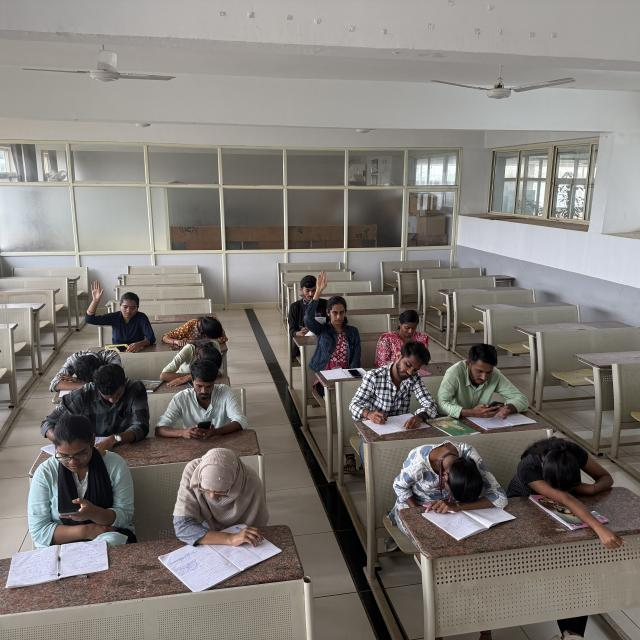Hand Rising: (83, 276, 160, 348), (306, 270, 365, 353)
Sleeping: (513, 437, 612, 504), (403, 434, 504, 499), (46, 344, 139, 399), (164, 304, 229, 347)
Using Phone: (28, 418, 134, 540), (436, 342, 532, 415), (162, 362, 249, 442)
Writing: (174, 442, 274, 550), (361, 342, 440, 429)
